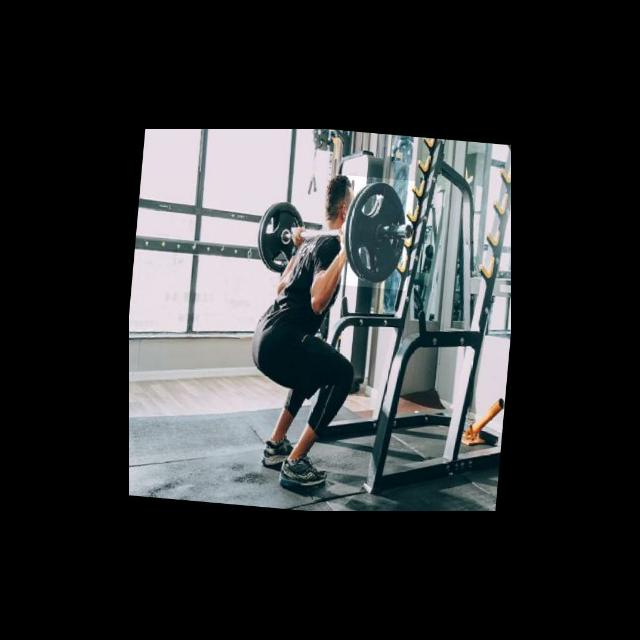barbell: (337, 175, 416, 290)
